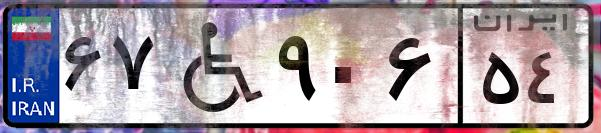0: (330, 28, 385, 110)
4: (525, 38, 570, 115)
5: (475, 38, 525, 113)
6: (385, 28, 445, 110), (57, 26, 110, 100)
7: (110, 28, 158, 98)
9: (270, 28, 330, 110)
ژ (معلولین و جانبازان): (158, 12, 270, 120)
